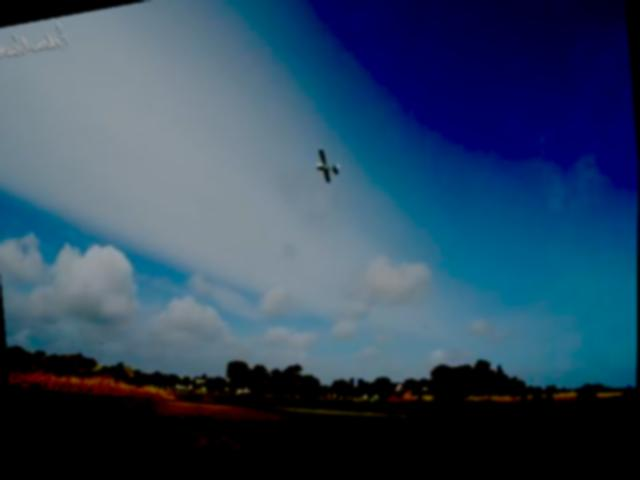uav: (309, 143, 346, 201)
